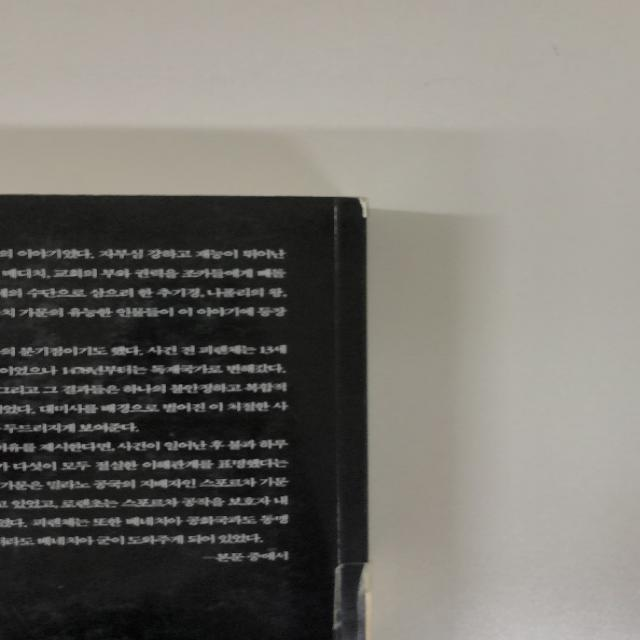Ripped: (346, 193, 378, 235)
